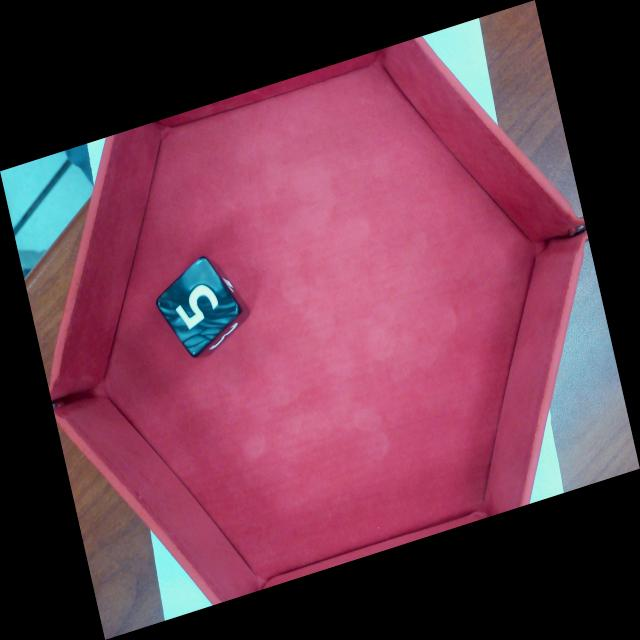dice: (156, 258, 238, 362)
